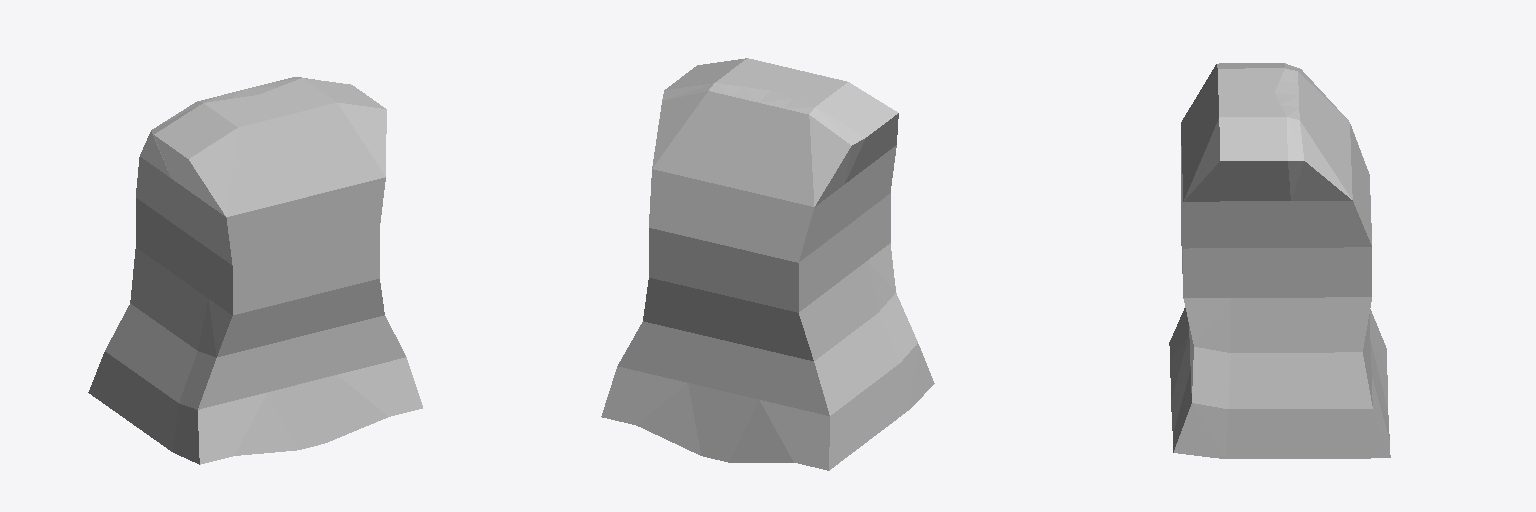
File: body.obj
The picture shows the model from 3 angles: view 1: azimuth 30°, elevation 25°; view 2: azimuth 150°, elevation 25°; view 3: azimuth 270°, elevation 25°; orthographic projection.
Visible parts, largest first — view 1: 体; view 2: 体; view 3: 体.
Part boxes in pixels (x1,y1,x2,y2): 体: (88, 77, 422, 464); 体: (601, 58, 934, 470); 体: (1169, 63, 1390, 458).
Bounding box in the file's own units: 0.7667 × 1.05 × 0.6419.